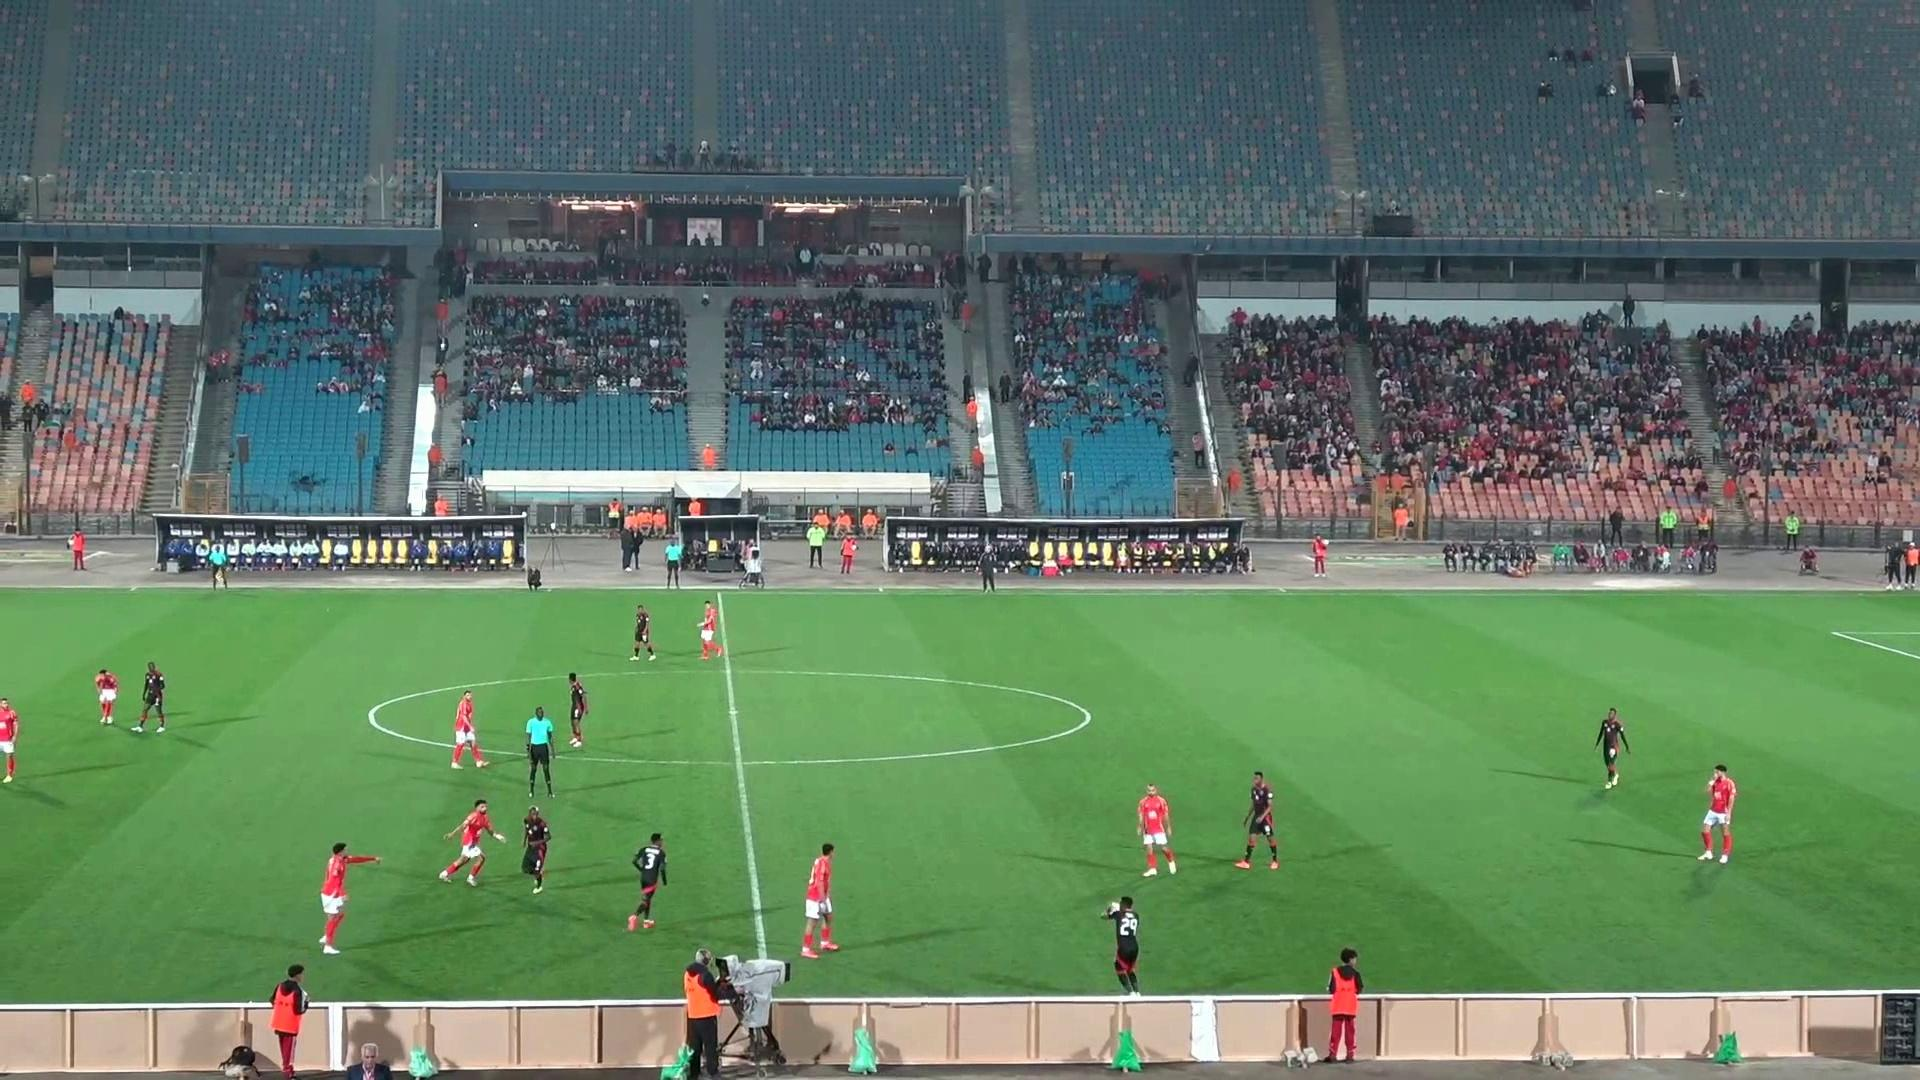Ball: (1102, 898, 1129, 920)
Refree: (526, 707, 554, 796), (204, 539, 229, 588), (663, 535, 684, 588)
Team1: (319, 847, 380, 955), (438, 799, 505, 885), (800, 843, 836, 957), (1697, 764, 1737, 862), (1135, 785, 1176, 876), (450, 690, 488, 767), (699, 600, 727, 659), (0, 698, 18, 782), (95, 669, 117, 725)
Team2: (1236, 771, 1279, 868), (626, 833, 667, 930), (1102, 895, 1139, 993), (520, 807, 551, 894), (1596, 708, 1629, 789), (132, 662, 166, 732), (567, 673, 588, 746), (632, 604, 655, 659)
